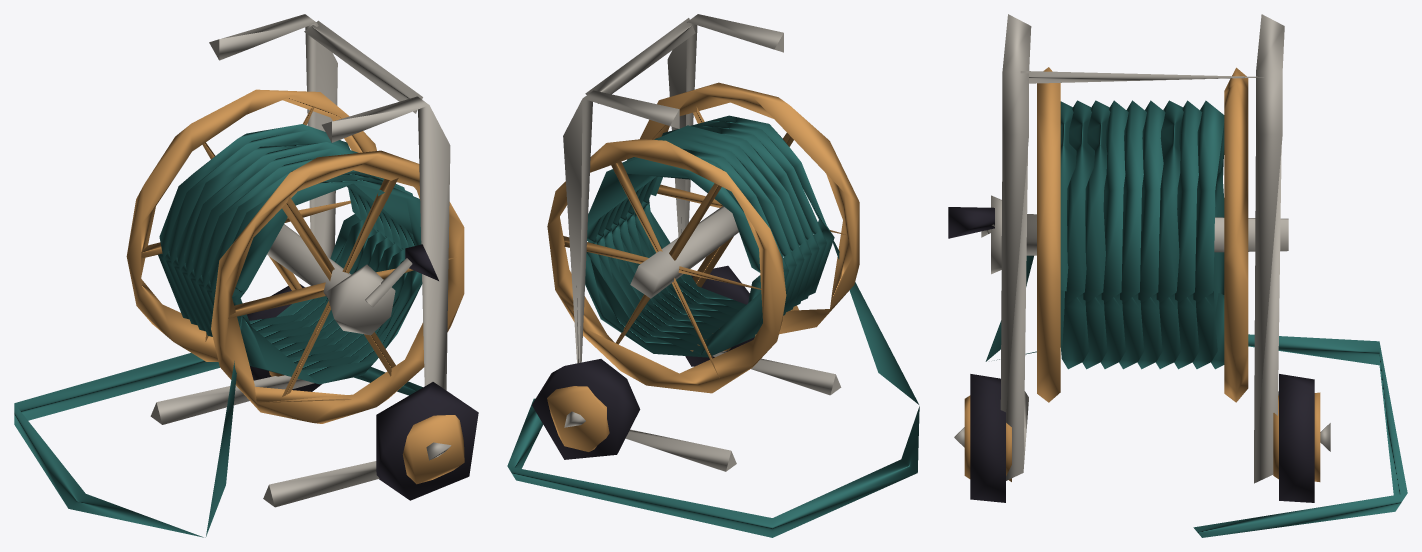
Rendered from prop.hose-reel.lod1.glb.
3 renders of one model, left to right at view 1: azimuth 30°, elevation 25°; view 2: azimuth 150°, elevation 25°; view 3: azimuth 270°, elevation 25°, orthographic. The views are drawn at different scales.
Size of the model in its own units: 0.9134 by 0.8727 by 0.8336.
